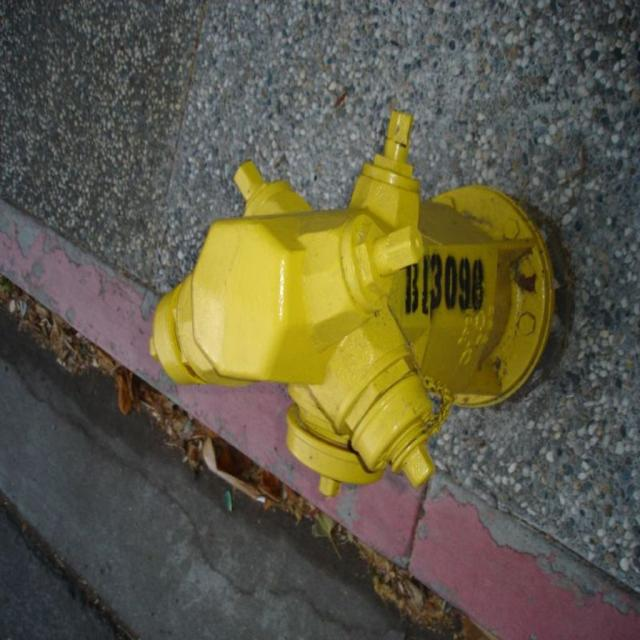fire_hydrant: (151, 108, 556, 502)
